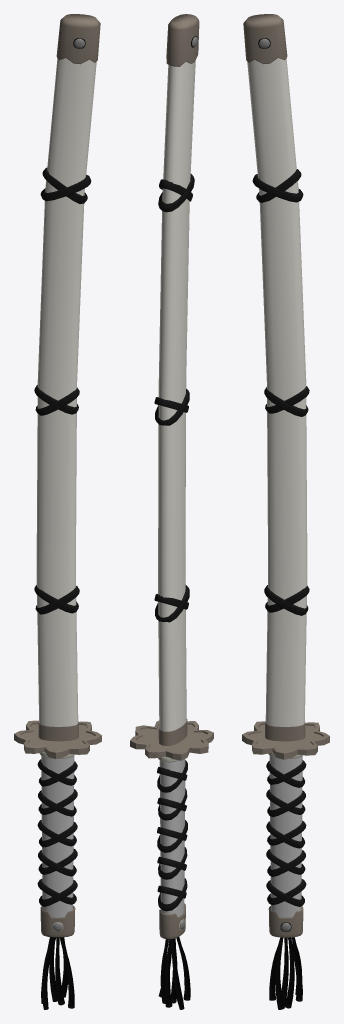
3 views of the same model, side by side, from view 1: azimuth 90°, elevation 25°; view 2: azimuth 150°, elevation 25°; view 3: azimuth 270°, elevation 25° (orthographic).
Parts seen in each view (by area): view 1: Cube.173; view 2: Cube.173; view 3: Cube.173.
Boxes of the visible parts, x1,y1,x2,y2 form: Cube.173: (14,14,101,1009); Cube.173: (130,14,213,1009); Cube.173: (242,14,329,1009).
Bounding box in the file's own units: 38.94 × 490 × 39.52.
